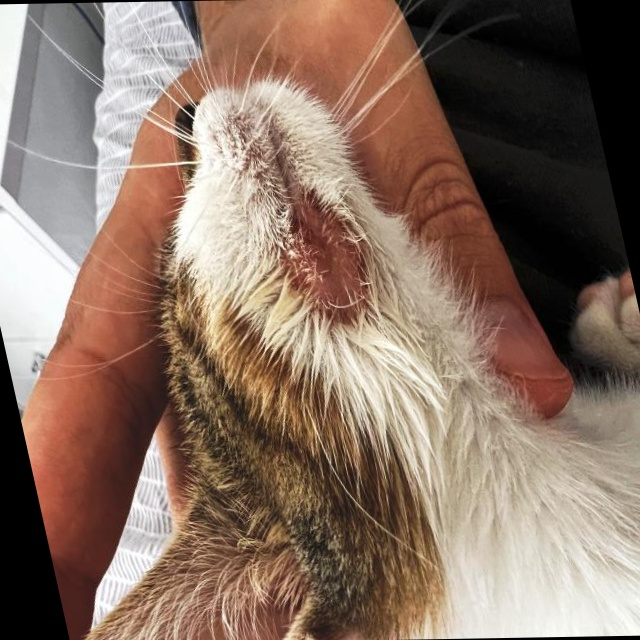ringworm: (274, 208, 385, 337)
